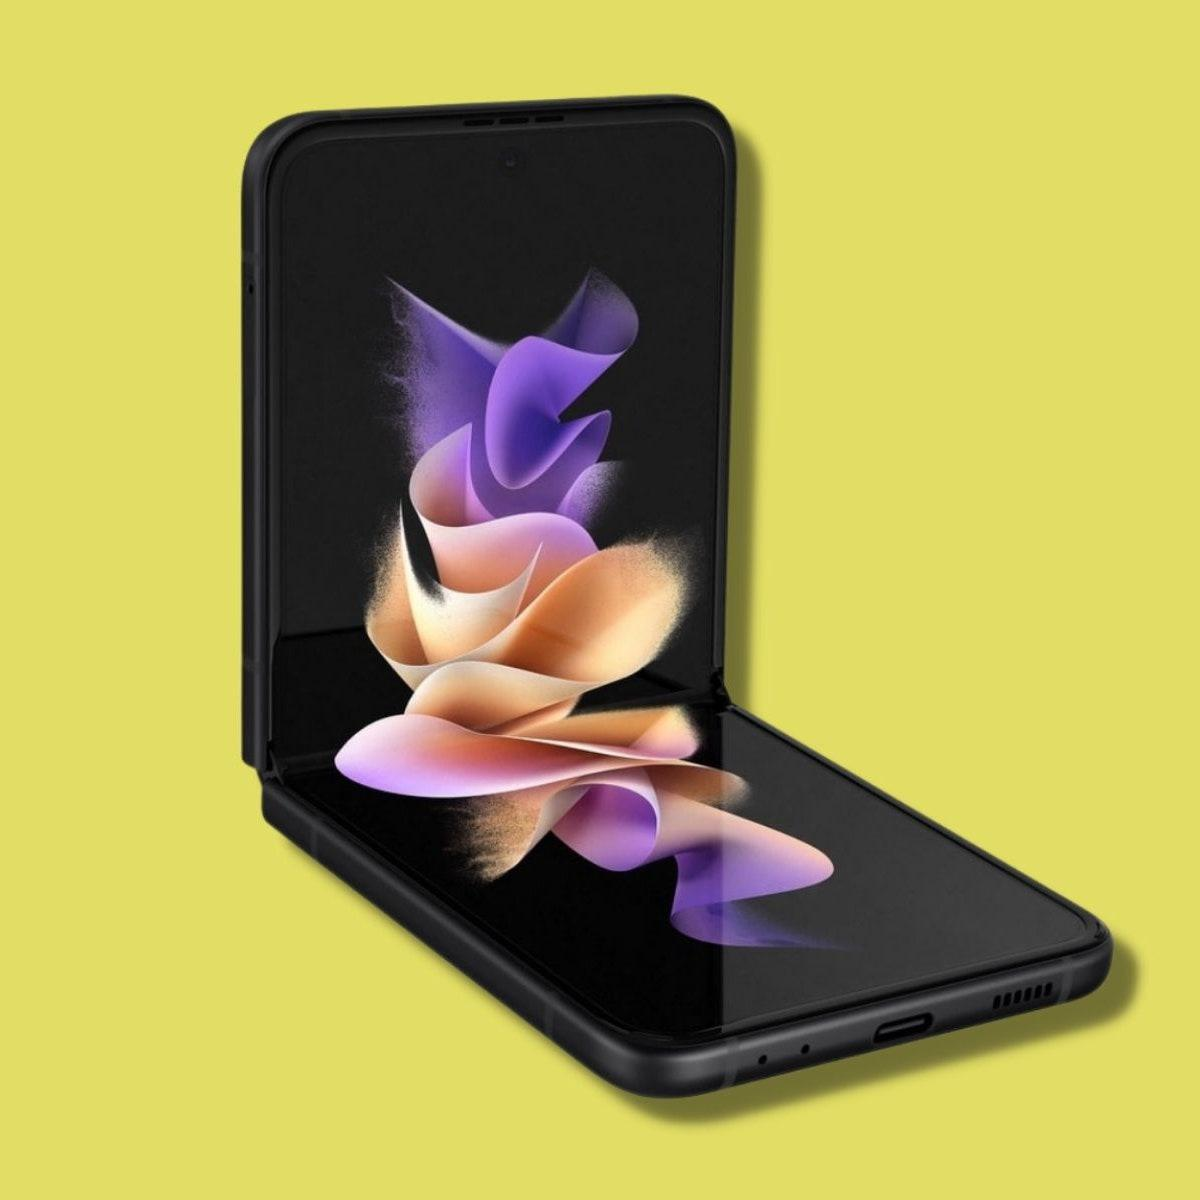Smartphone: (227, 64, 1116, 1200)
